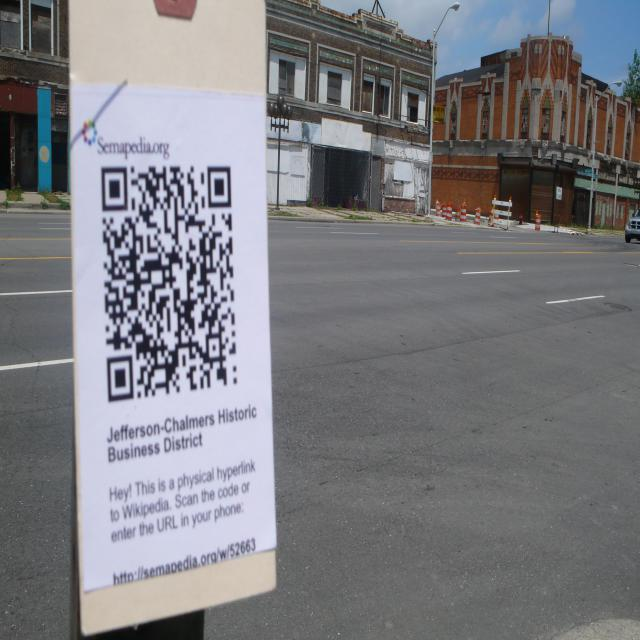qrcode: (103, 169, 238, 403)
